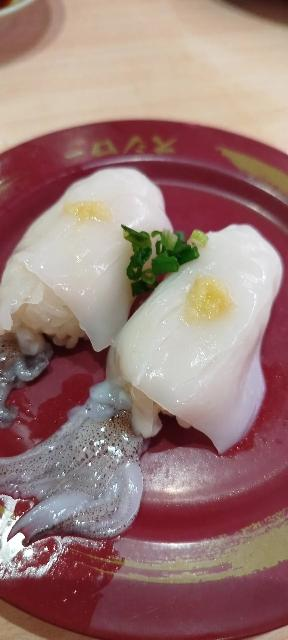janred: (6, 140, 288, 591)
